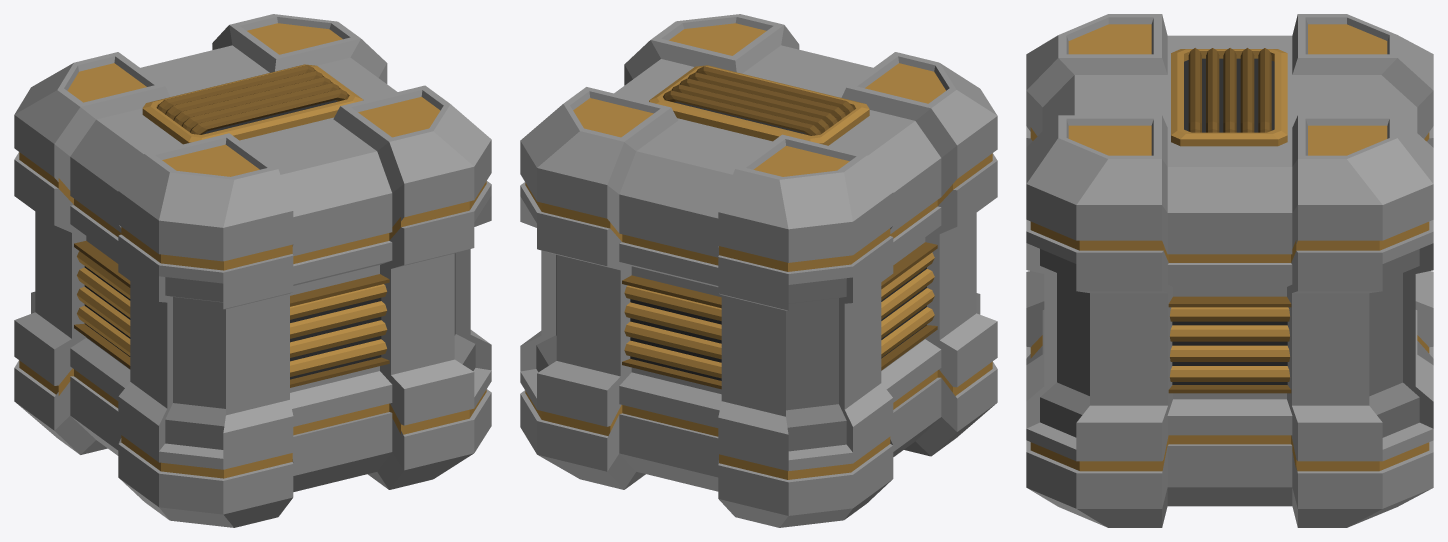
File: Props_Crate.glb
3 views of the same model, side by side, from view 1: azimuth 30°, elevation 25°; view 2: azimuth 150°, elevation 25°; view 3: azimuth 270°, elevation 25° (orthographic). The views are drawn at different scales.
Visible parts, largest first — view 1: Props_Crate; view 2: Props_Crate; view 3: Props_Crate.
Part boxes in pixels (left/top/right/bottom): Props_Crate: left=14, top=14, right=491, bottom=527; Props_Crate: left=520, top=14, right=997, bottom=527; Props_Crate: left=1026, top=14, right=1433, bottom=527.
Bounding box in the file's own units: 0.7971 × 0.8055 × 0.7971.
